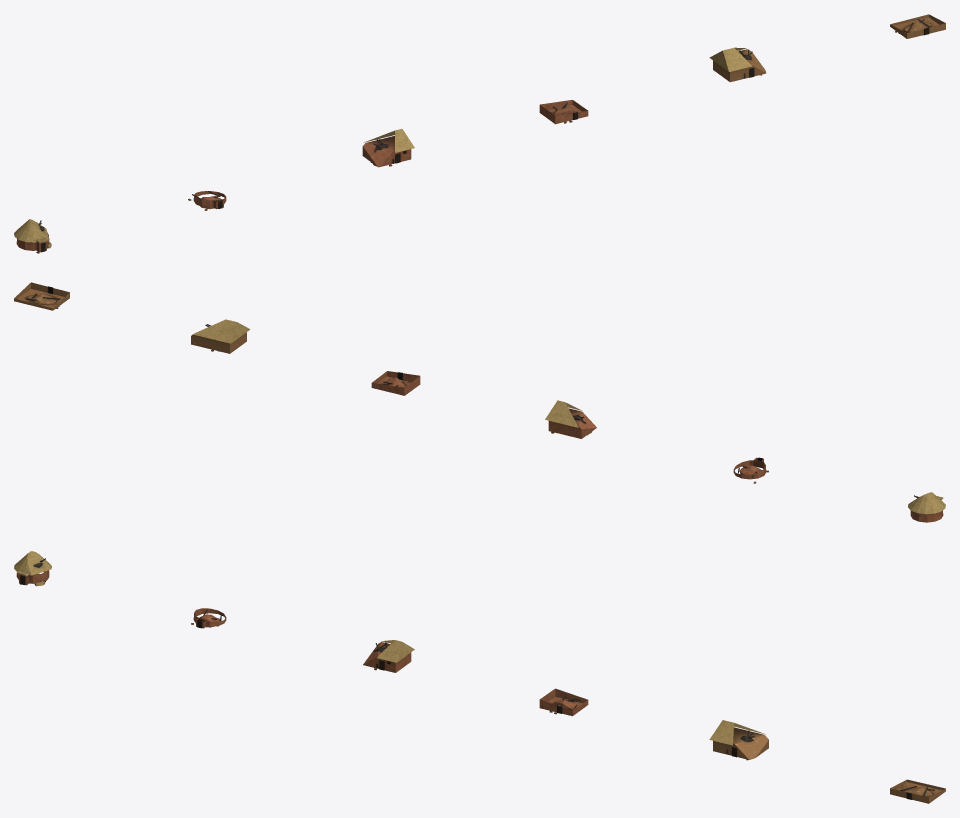
The model's file is stone-indic-houses-damage.glb.
3 views of the same model, one above another, from view 1: azimuth 30°, elevation 25°; view 2: azimuth 150°, elevation 25°; view 3: azimuth 330°, elevation 25° (orthographic).
Parts seen in each view (by area): view 1: LOD0.002, LOD0.004, LOD0, LOD0.005, LOD0.003; view 2: LOD0.004, LOD0.002, LOD0.005, LOD0, LOD0.003, LOD0.001; view 3: LOD0.004, LOD0.002, LOD0, LOD0.003, LOD0.005.
Part boxes in pixels (left/top/right/bottom): LOD0.002: left=362, top=129, right=414, bottom=167; LOD0.004: left=709, top=47, right=766, bottom=82; LOD0: left=14, top=219, right=51, bottom=253; LOD0.005: left=890, top=14, right=945, bottom=38; LOD0.003: left=539, top=100, right=588, bottom=124; LOD0.004: left=191, top=319, right=250, bottom=353; LOD0.002: left=545, top=400, right=596, bottom=438; LOD0.005: left=14, top=282, right=69, bottom=310; LOD0: left=908, top=492, right=945, bottom=522; LOD0.003: left=371, top=371, right=420, bottom=395; LOD0.001: left=733, top=457, right=768, bottom=483; LOD0.004: left=709, top=720, right=768, bottom=760; LOD0.002: left=363, top=640, right=414, bottom=672; LOD0: left=14, top=551, right=51, bottom=586; LOD0.003: left=539, top=688, right=588, bottom=716; LOD0.005: left=890, top=779, right=945, bottom=803.
Size of what is drawn, in the model's own units: 15.61 by 0.44 by 0.62.
Materials: 1 (1 with a texture image).
